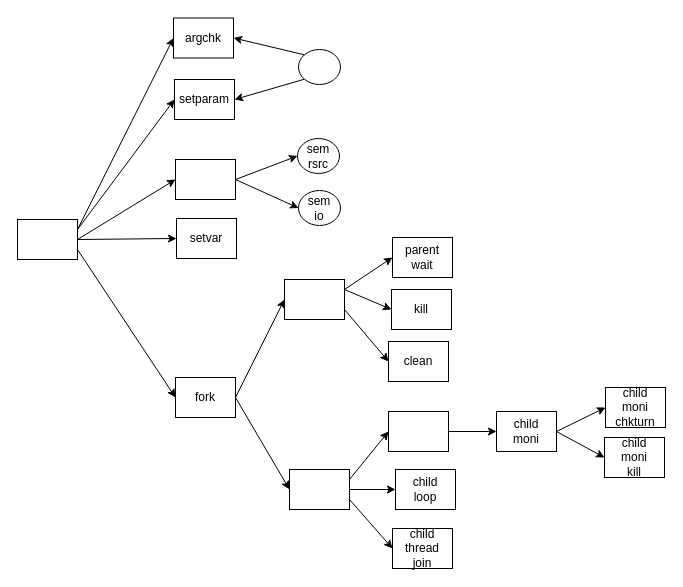
Some shapes in this 683 by 587 pixel diagram are drawn without their labels. The shapes that lost their labels are listed below. From the top down, each one's box as (x1, y1, x2, y2) in pixels, then its label:
(298, 48, 340, 84): argv
(174, 158, 236, 200): sem open
(16, 218, 78, 260): main
(284, 278, 344, 320): parent
(388, 410, 448, 452): child thread create
(288, 468, 350, 510): child
